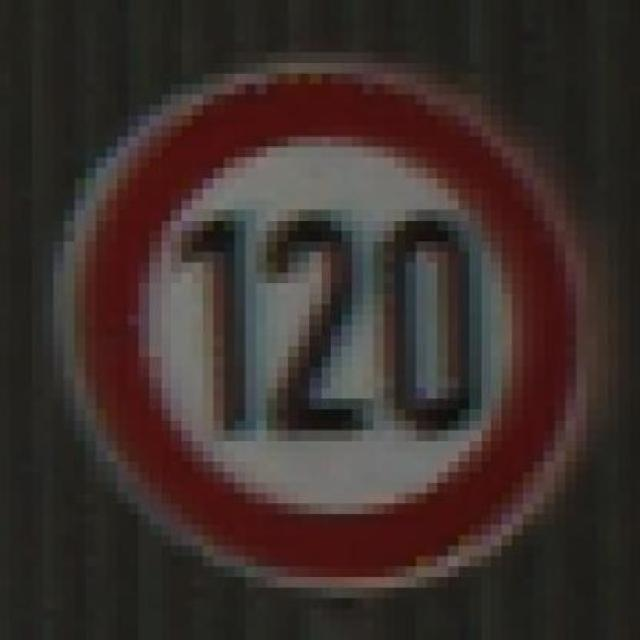forb_speed_over_120: (65, 73, 587, 581)
